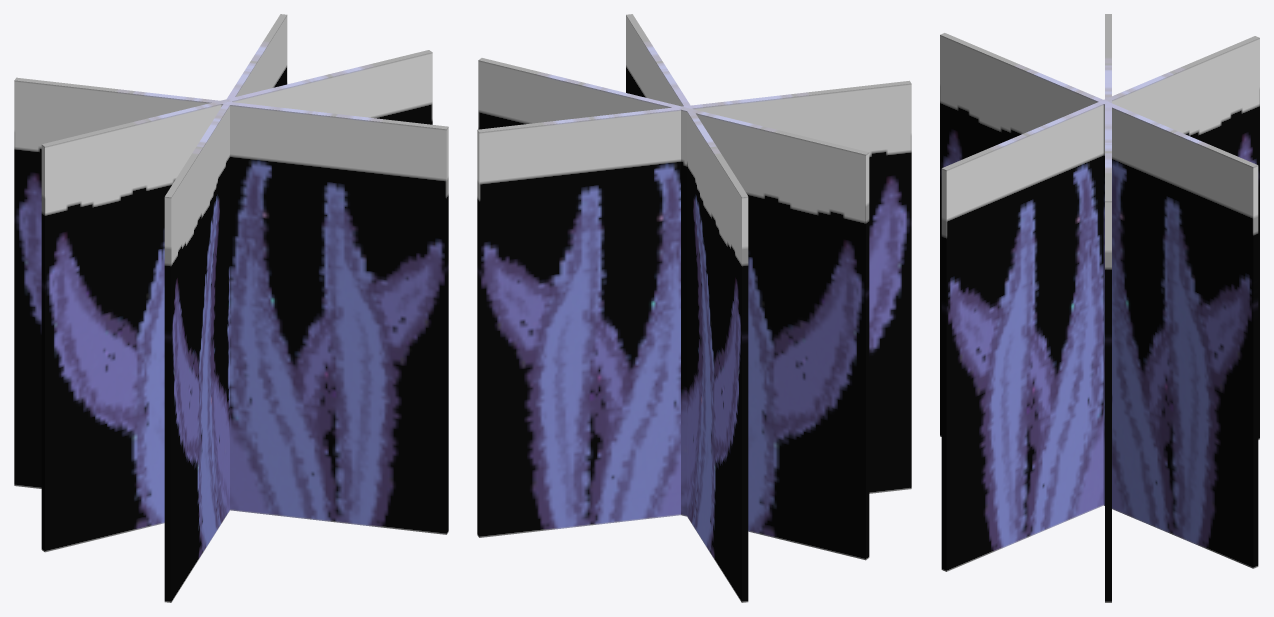
File: Algae_2.obj
3 renders of one model, left to right at view 1: azimuth 30°, elevation 25°; view 2: azimuth 150°, elevation 25°; view 3: azimuth 270°, elevation 25°, orthographic.
Parts seen in each view (by area): view 1: polySurface20; view 2: polySurface20; view 3: polySurface20.
Part boxes in pixels (x1=…): polySurface20: x1=14, y1=14, x2=448, y2=602; polySurface20: x1=477, y1=14, x2=911, y2=602; polySurface20: x1=940, y1=14, x2=1259, y2=602.
Bounding box in the file's own units: 4.48 × 4.48 × 3.23.
1 material, 1 textured.
